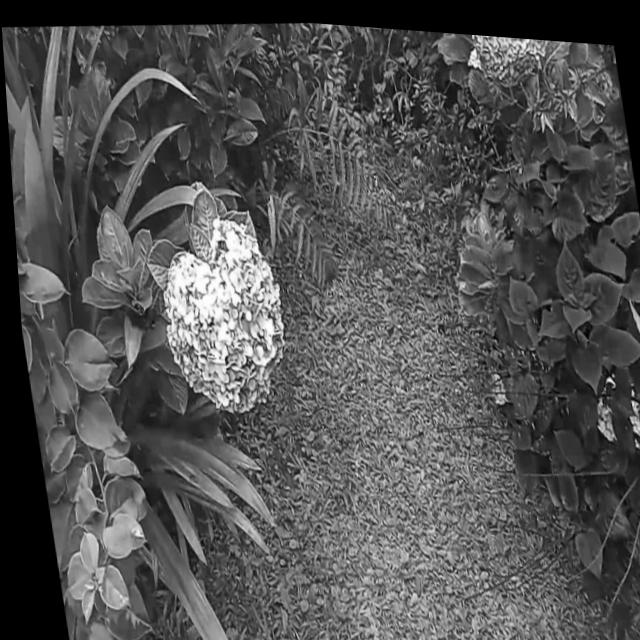Flower: (146, 202, 298, 422), (467, 27, 558, 74)
